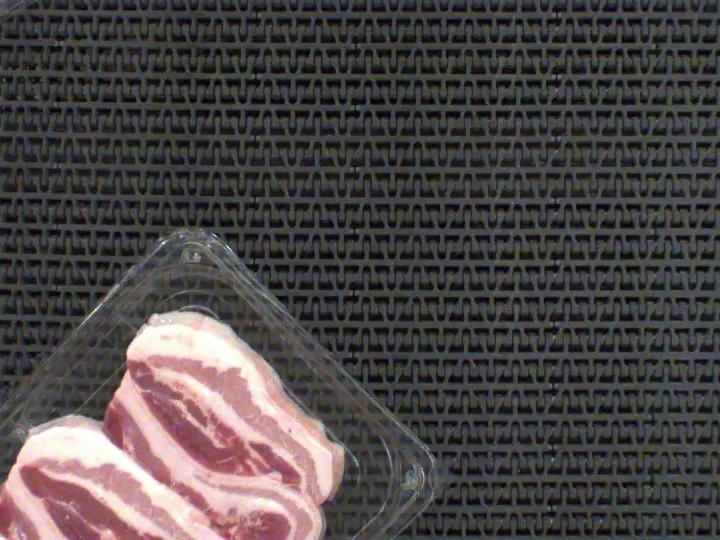packaging-error: (3, 411, 42, 447)
